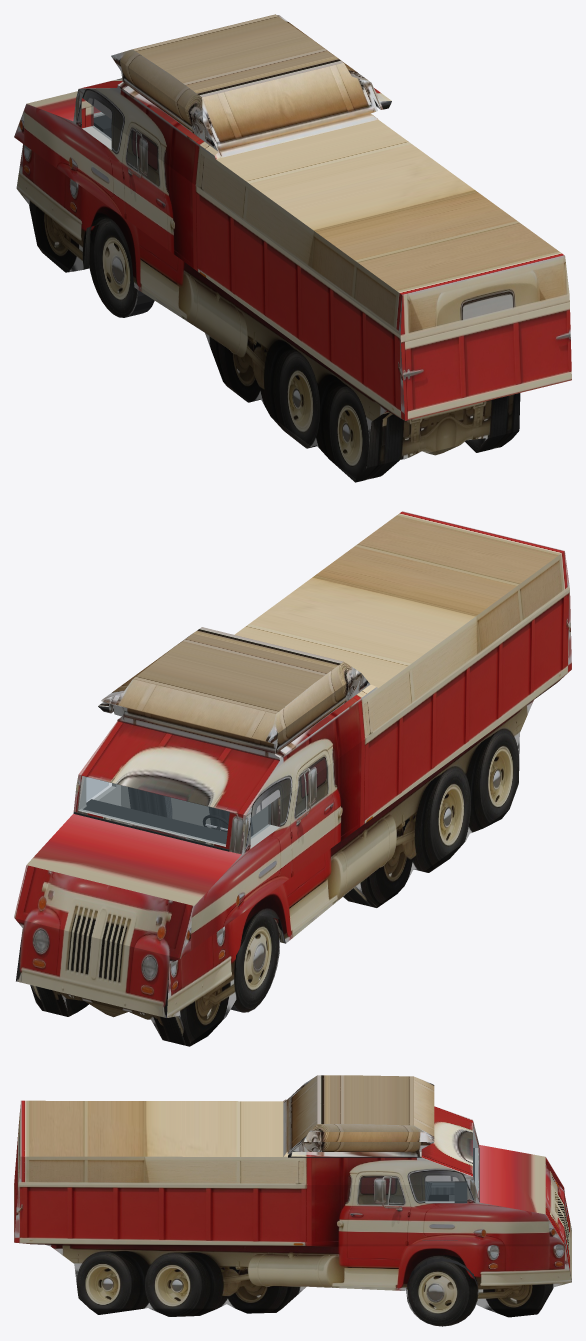
File: grain_truck.glb
The picture shows the model from 3 angles, top to bottom: view 1: azimuth 30°, elevation 25°; view 2: azimuth 150°, elevation 25°; view 3: azimuth 270°, elevation 25°; orthographic projection. The views are drawn at different scales.
Visible parts, largest first — view 1: grain_truck, wheel_FL; view 2: grain_truck, grain_truck_cabin, wheel_FL; view 3: grain_truck, wheel_FR, grain_truck_cabin.
Boxes of the visible parts, <box> form: grain_truck: <box>14,14,571,482</box>; wheel_FL: <box>89,221,154,317</box>; grain_truck: <box>14,511,571,1046</box>; grain_truck_cabin: <box>73,777,270,851</box>; wheel_FL: <box>230,915,279,1012</box>; grain_truck: <box>14,1075,571,1317</box>; wheel_FR: <box>406,1257,478,1326</box>; grain_truck_cabin: <box>422,1137,479,1240</box>.
Size of the model in its own units: 2.42 by 3.53 by 8.99.
Materials: 11 (4 with a texture image).
